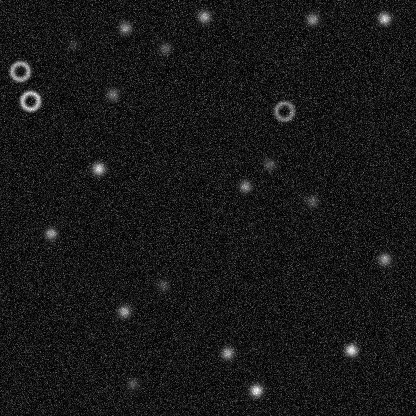Ring: (272, 99, 296, 123), (8, 59, 32, 83), (18, 88, 42, 112)
Spot: (196, 8, 212, 24), (303, 193, 319, 209), (154, 277, 170, 293), (219, 345, 235, 361), (156, 40, 172, 56), (376, 251, 392, 267), (236, 178, 252, 194), (248, 382, 264, 398), (117, 19, 133, 35), (116, 303, 132, 319), (65, 36, 81, 52), (104, 86, 120, 102), (261, 156, 277, 172), (376, 10, 392, 26), (304, 11, 320, 27), (343, 342, 359, 358), (90, 160, 106, 176), (124, 375, 140, 391), (42, 225, 58, 241)
